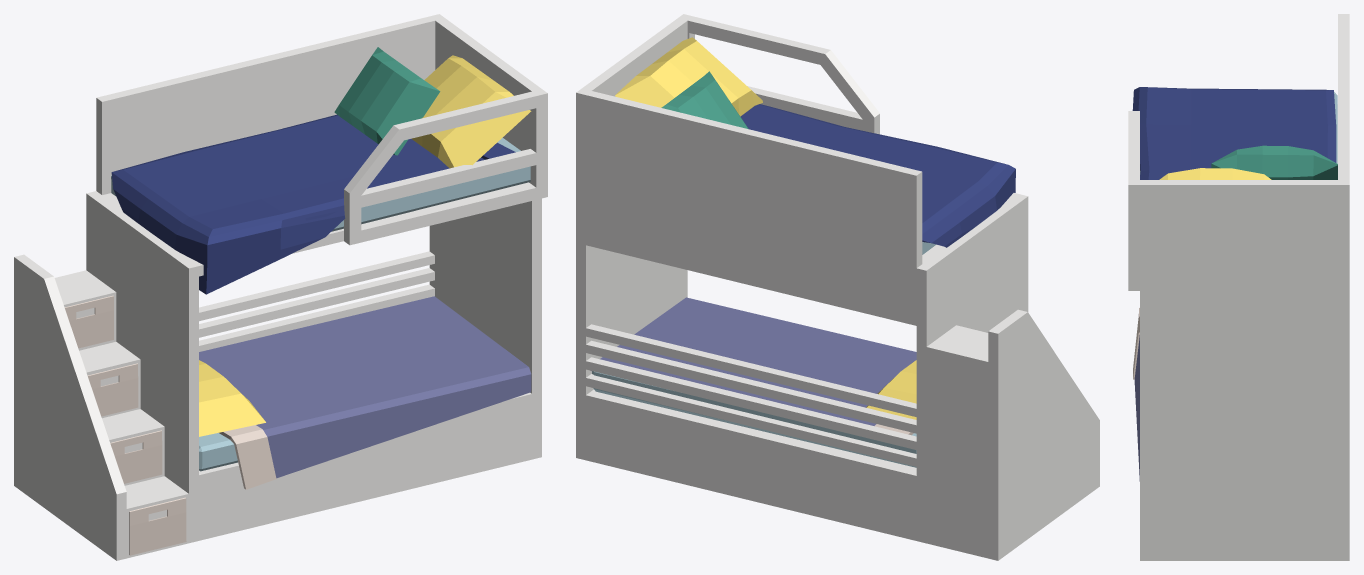
File: Bunk_bed.fbx
3 renders of one model, left to right at view 1: azimuth 30°, elevation 25°; view 2: azimuth 150°, elevation 25°; view 3: azimuth 270°, elevation 25°, orthographic. The views are drawn at different scales.
Visible parts, largest first — view 1: Bunk_bed; view 2: Bunk_bed; view 3: Bunk_bed.
Boxes of the visible parts, left/top/right/bottom form: Bunk_bed: left=14, top=14, right=547, bottom=560; Bunk_bed: left=576, top=14, right=1099, bottom=560; Bunk_bed: left=1128, top=14, right=1349, bottom=560.
Bounding box in the file's own units: 351 × 155 × 290.
